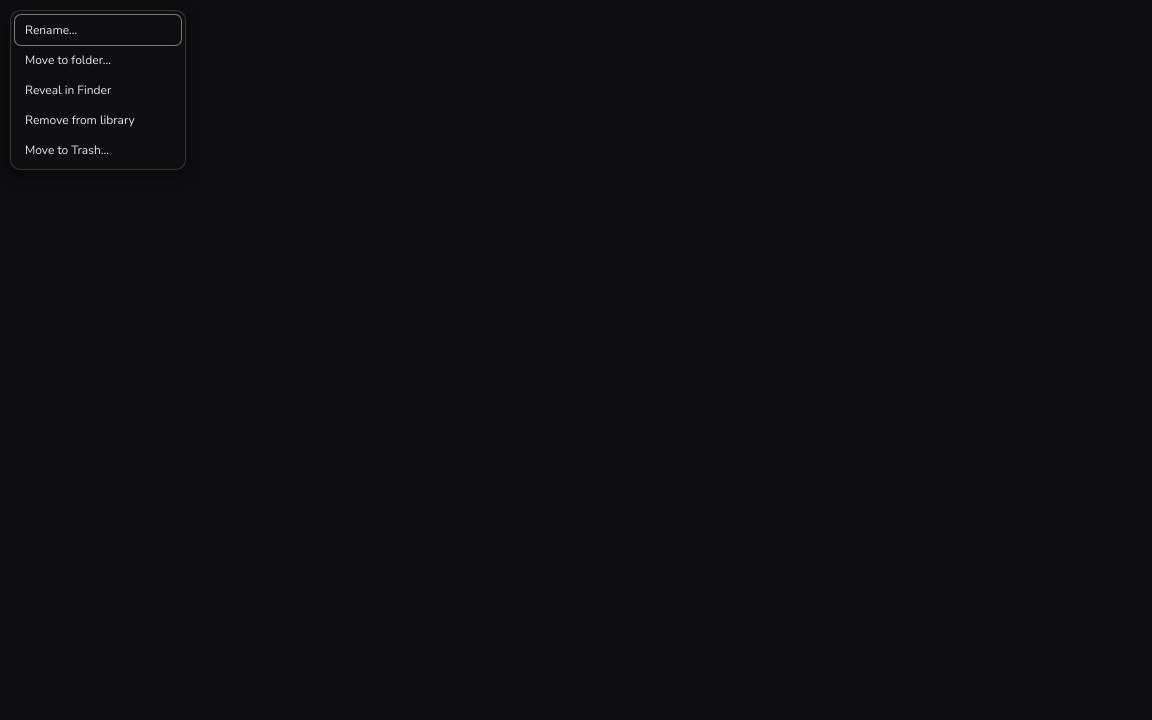
Scenario: the transcript reader's row menu › offers Rename, and opens its dialog
What coordinates should you click on to do the following:
click the menu item "Rename…"
I would click on:
 (98, 30)
Its box is [15,15,181,45].
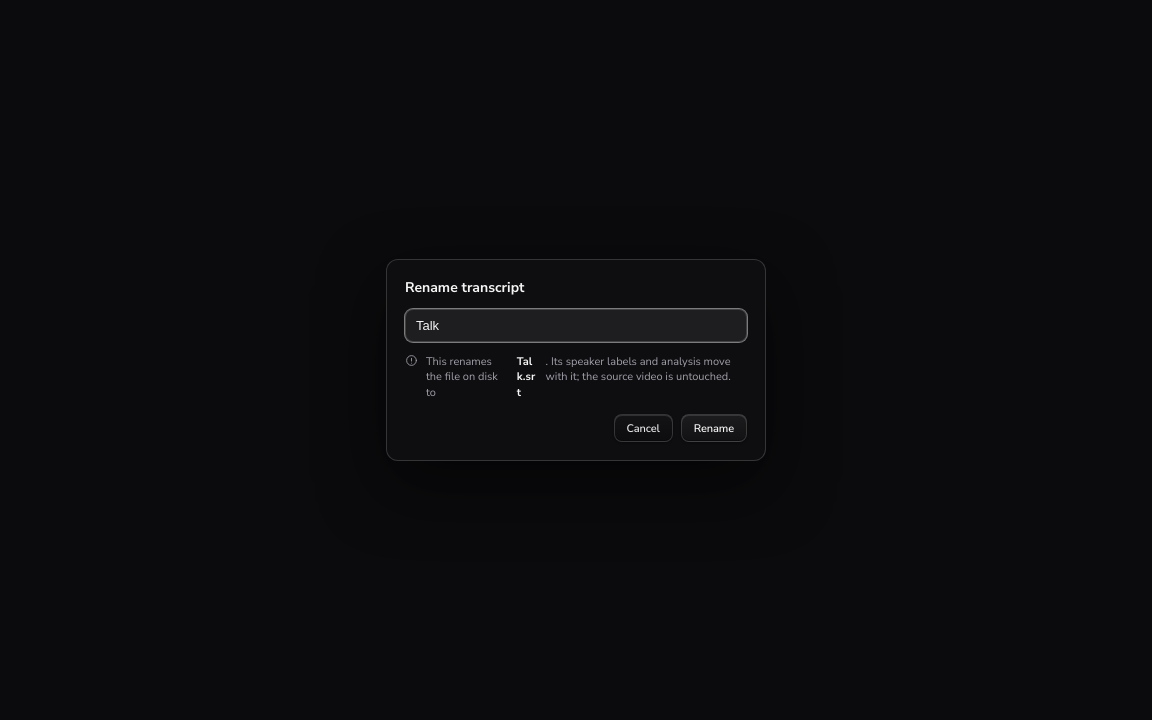
Now the dialog is shown, box [386,259,766,461]
Now the field holds "Talk", box [405,309,747,342]
